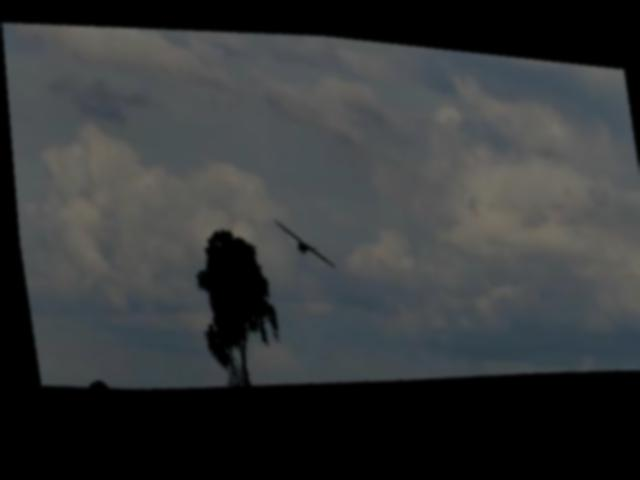uav: (267, 207, 334, 265)
